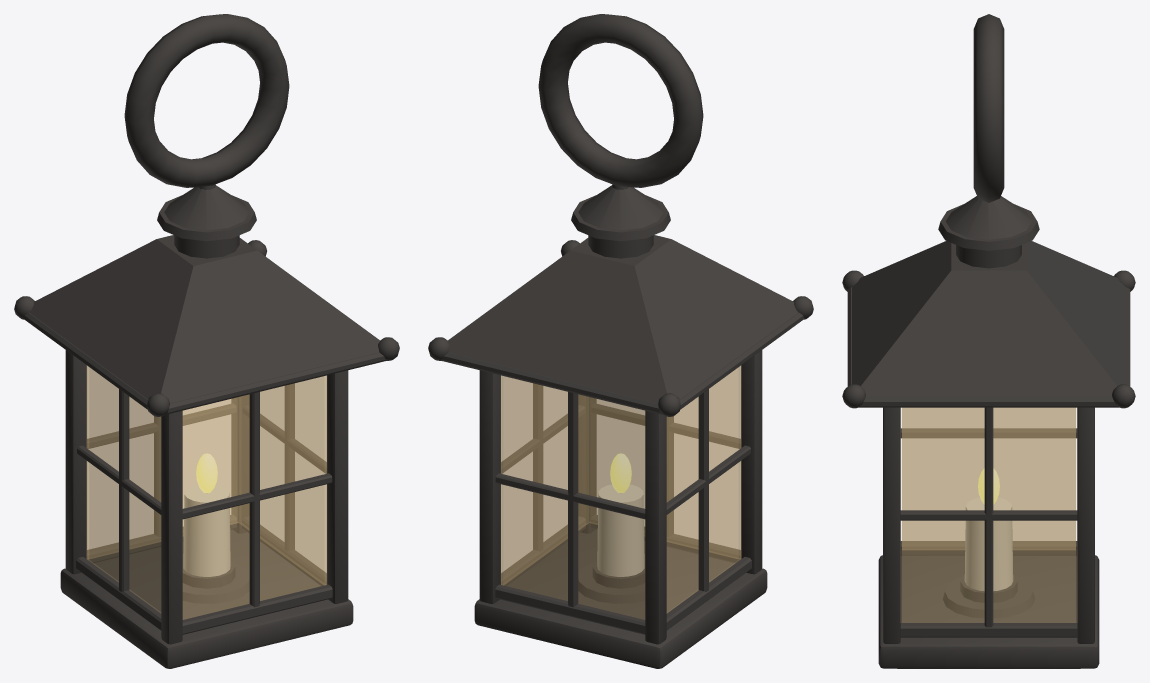
Rendered from iron-lantern_final.glb.
3 renders of one model, left to right at view 1: azimuth 30°, elevation 25°; view 2: azimuth 150°, elevation 25°; view 3: azimuth 270°, elevation 25°, orthographic.
Visible parts, largest first — view 1: SM_IronLantern_Roof, SM_IronLantern_Glass, SM_IronLantern_Frame, SM_IronLantern_Base, SM_IronLantern_Ring, SM_IronLantern_Candle, SM_IronLantern_Flame; view 2: SM_IronLantern_Roof, SM_IronLantern_Glass, SM_IronLantern_Frame, SM_IronLantern_Base, SM_IronLantern_Ring, SM_IronLantern_Candle, SM_IronLantern_Flame; view 3: SM_IronLantern_Roof, SM_IronLantern_Glass, SM_IronLantern_Frame, SM_IronLantern_Base, SM_IronLantern_Ring, SM_IronLantern_Candle.
Part boxes in pixels (left/top/right/bottom): SM_IronLantern_Roof: left=14, top=185, right=399, bottom=416; SM_IronLantern_Glass: left=86, top=365, right=326, bottom=619; SM_IronLantern_Frame: left=65, top=350, right=348, bottom=644; SM_IronLantern_Base: left=60, top=529, right=353, bottom=668; SM_IronLantern_Ring: left=124, top=14, right=289, bottom=189; SM_IronLantern_Candle: left=183, top=484, right=230, bottom=576; SM_IronLantern_Flame: left=196, top=453, right=217, bottom=493; SM_IronLantern_Roof: left=428, top=185, right=813, bottom=416; SM_IronLantern_Glass: left=501, top=365, right=741, bottom=619; SM_IronLantern_Frame: left=479, top=350, right=762, bottom=644; SM_IronLantern_Base: left=474, top=529, right=767, bottom=668; SM_IronLantern_Ring: left=538, top=14, right=703, bottom=189; SM_IronLantern_Candle: left=597, top=484, right=644, bottom=576; SM_IronLantern_Flame: left=610, top=453, right=631, bottom=493; SM_IronLantern_Roof: left=842, top=196, right=1135, bottom=408; SM_IronLantern_Glass: left=902, top=407, right=1075, bottom=622; SM_IronLantern_Frame: left=883, top=407, right=1094, bottom=643; SM_IronLantern_Base: left=878, top=555, right=1099, bottom=668; SM_IronLantern_Ring: left=973, top=14, right=1004, bottom=202; SM_IronLantern_Candle: left=964, top=497, right=1013, bottom=590.
Size of the model in its own units: 0.2649 by 0.608 by 0.266.
